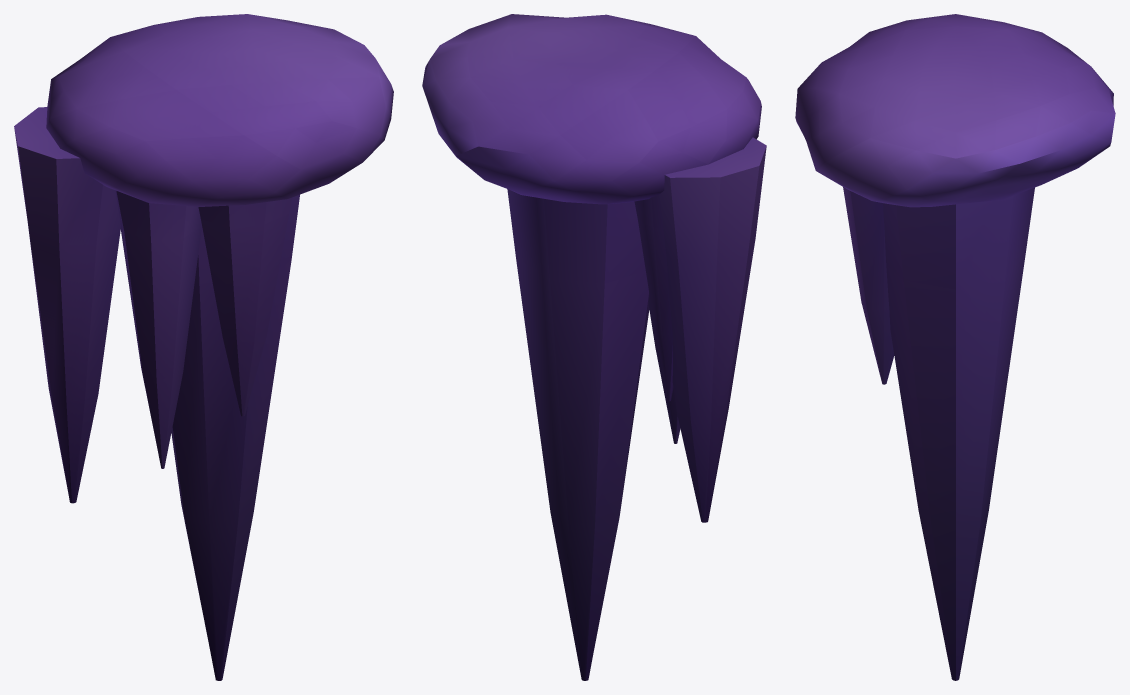
File: hollow_cave_stalactite_b.glb
The picture shows the model from 3 angles, left to right: view 1: azimuth 30°, elevation 25°; view 2: azimuth 150°, elevation 25°; view 3: azimuth 270°, elevation 25°; orthographic projection.
Parts seen in each view (by area): view 1: hollow_cave_stalactite_b; view 2: hollow_cave_stalactite_b; view 3: hollow_cave_stalactite_b.
Part boxes in pixels (bbox=[...]): hollow_cave_stalactite_b: bbox=[14, 14, 393, 680]; hollow_cave_stalactite_b: bbox=[422, 14, 766, 680]; hollow_cave_stalactite_b: bbox=[795, 14, 1115, 680].
Bounding box in the file's own units: 1.91 × 3.4 × 1.59.
